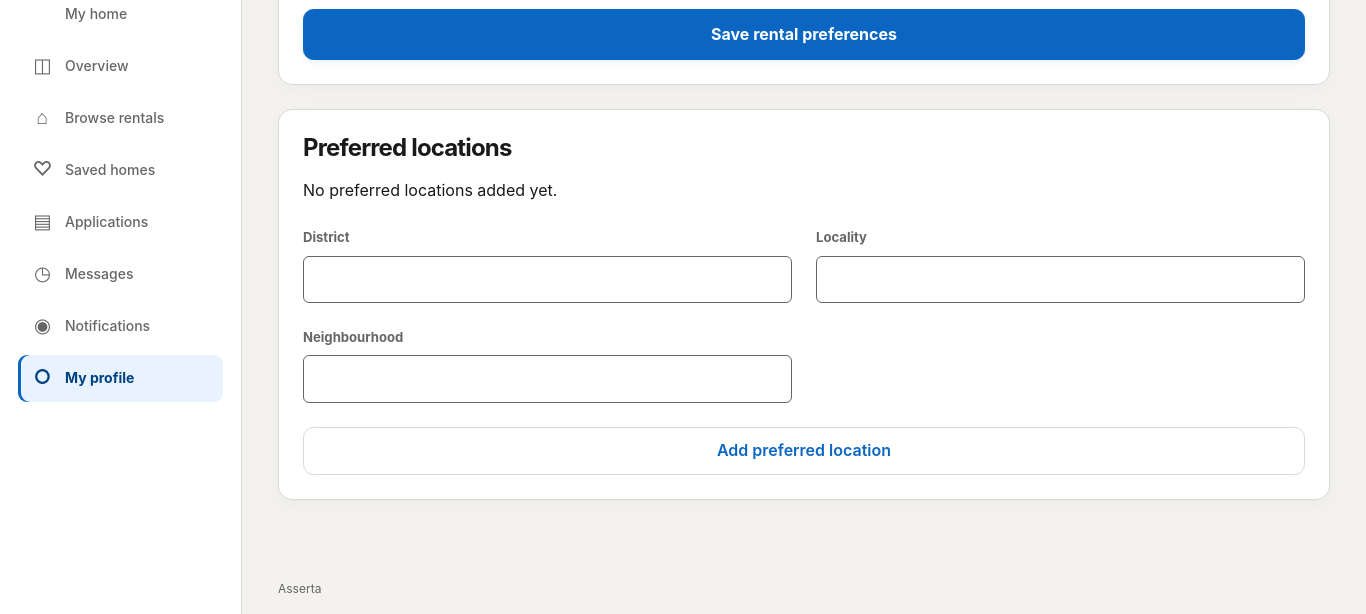
Test: tenant profile page › adds a structured preferred location
(page scrolled)
In the field labelled "District": (548, 279) left=303, top=256, right=792, bottom=303, type "Moka"
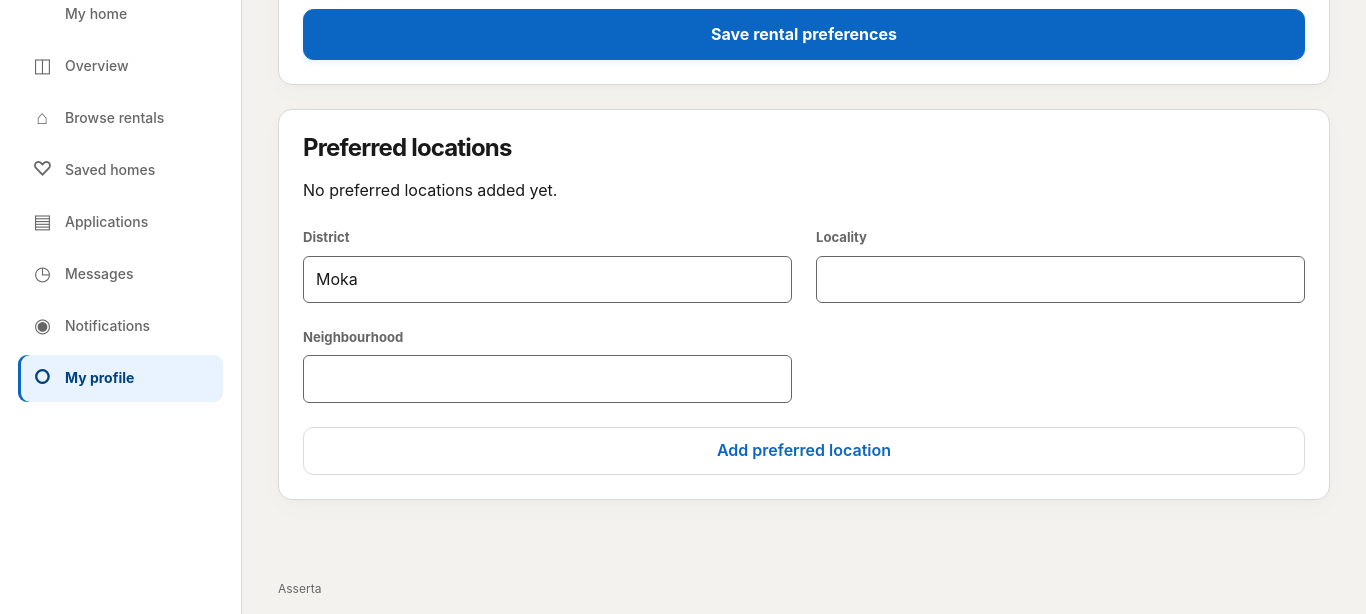
Click the button "Add preferred location": click(804, 451) left=303, top=427, right=1305, bottom=475
(page scrolled)
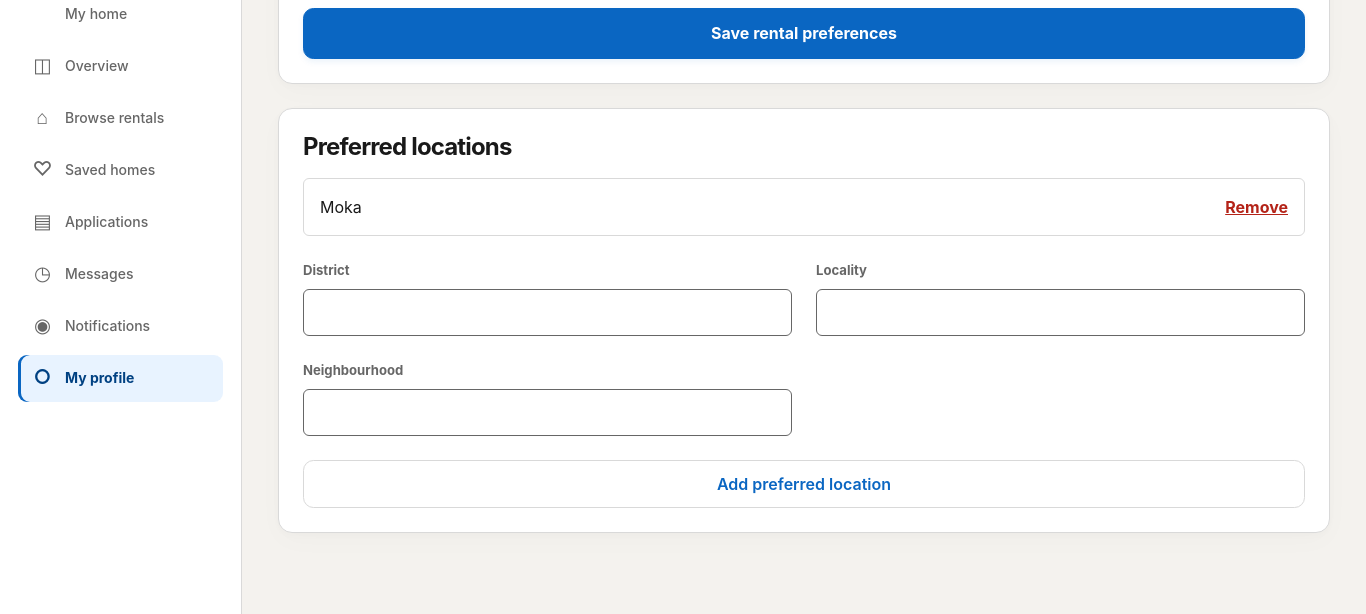
Check: the text "Moka" is shown, box left=320, top=195, right=362, bottom=219
Click the button "Remove": click(1257, 207) left=1225, top=195, right=1288, bottom=219
(page scrolled)
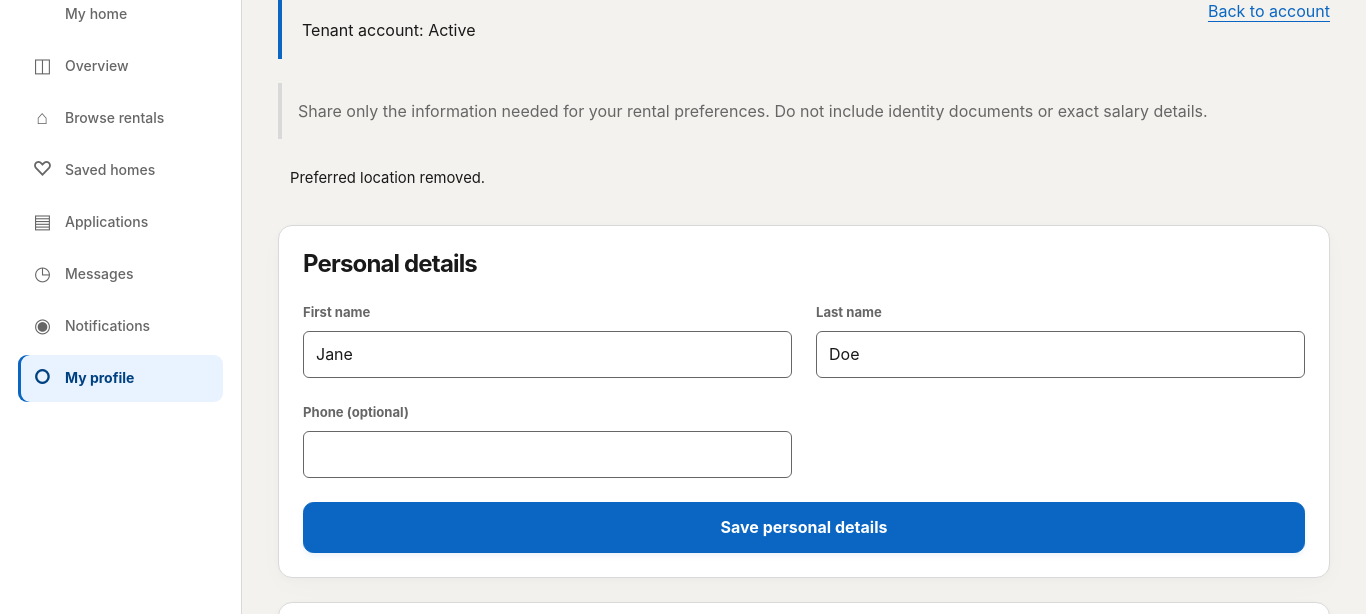
Check: the text "Preferred location removed." is shown, box left=278, top=154, right=1330, bottom=201
Check: the text "Moka" is gone
